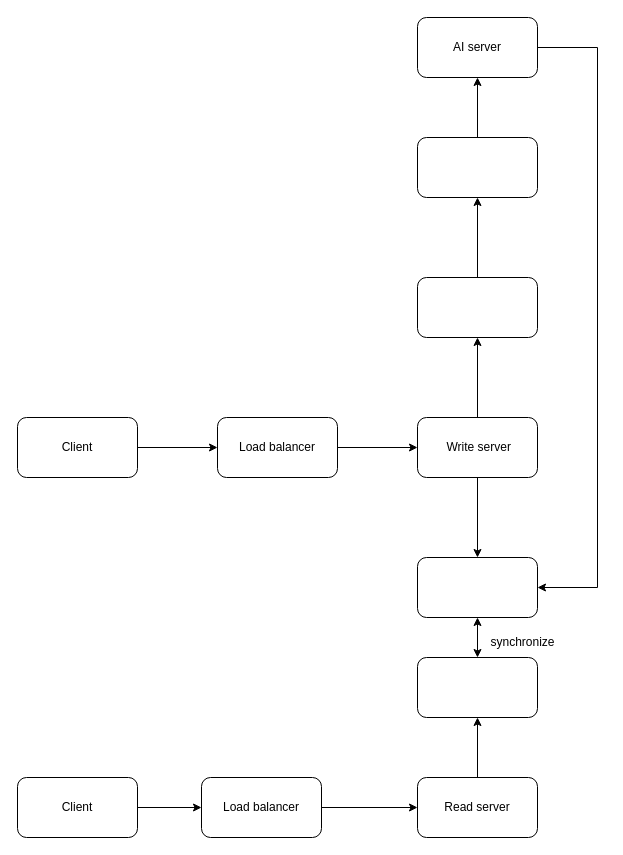
Image size: 623x855. Some labels were removed from this diagram. The shapes that lost their labels are listed below. From the top down, each one's box as (x1, y1, x2, y2) in pixels, then its label:
(416, 136, 538, 198): MQ Consumer
(416, 276, 538, 338): MQ
(416, 556, 538, 618): Write Video Storage
(416, 656, 538, 718): Read Video Storage
